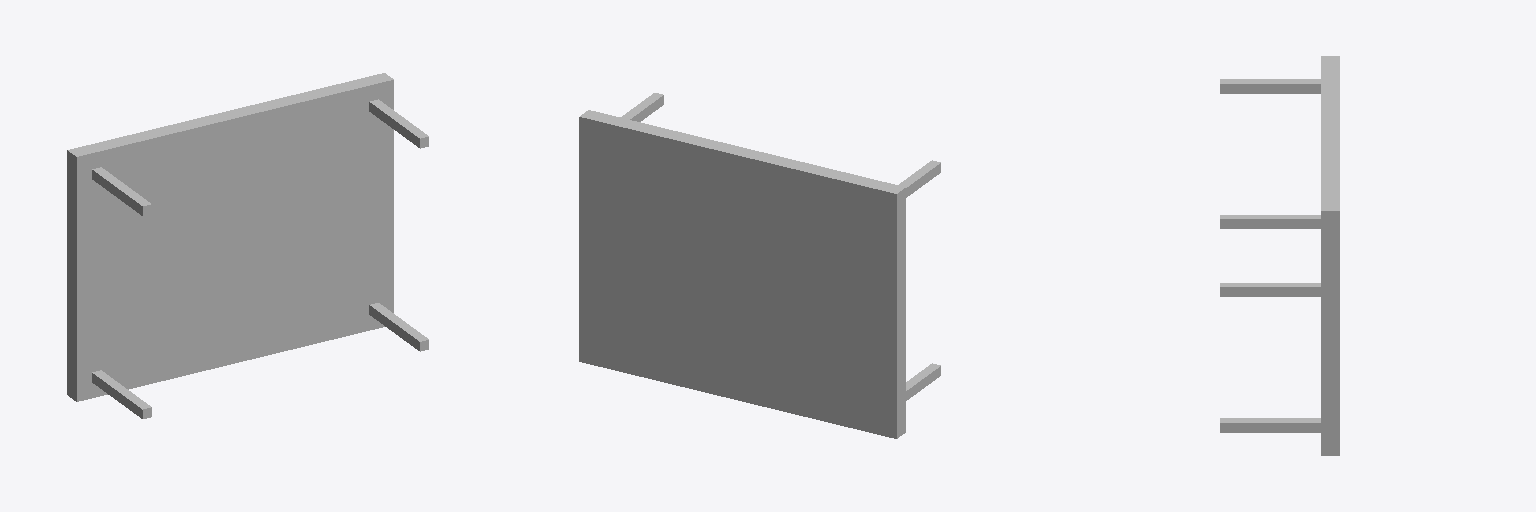
File: random_table75.obj
3 views of the same model, side by side, from view 1: azimuth 30°, elevation 25°; view 2: azimuth 150°, elevation 25°; view 3: azimuth 270°, elevation 25° (orthographic).
Visible parts, largest first — view 1: Table_Cube.1440, TableLeg3_Cube.1444, TableLeg0_Cube.1441, TableLeg1_Cube.1442, TableLeg2_Cube.1443; view 2: Table_Cube.1440, TableLeg1_Cube.1442, TableLeg3_Cube.1444, TableLeg0_Cube.1441; view 3: Table_Cube.1440, TableLeg1_Cube.1442, TableLeg2_Cube.1443, TableLeg0_Cube.1441, TableLeg3_Cube.1444.
Boxes of the visible parts, x1,y1,x2,y2 form: Table_Cube.1440: [67, 73, 393, 401]; TableLeg3_Cube.1444: [92, 370, 151, 418]; TableLeg0_Cube.1441: [369, 99, 428, 148]; TableLeg1_Cube.1442: [92, 167, 151, 215]; TableLeg2_Cube.1443: [369, 303, 428, 351]; Table_Cube.1440: [579, 110, 905, 438]; TableLeg1_Cube.1442: [899, 160, 940, 197]; TableLeg3_Cube.1444: [906, 363, 940, 400]; TableLeg0_Cube.1441: [620, 93, 663, 121]; Table_Cube.1440: [1321, 56, 1339, 455]; TableLeg1_Cube.1442: [1220, 79, 1320, 93]; TableLeg2_Cube.1443: [1220, 418, 1320, 432]; TableLeg0_Cube.1441: [1220, 215, 1320, 228]; TableLeg3_Cube.1444: [1220, 283, 1320, 296].
Size of the model in its own units: 9.51 by 7.02 by 3.12.